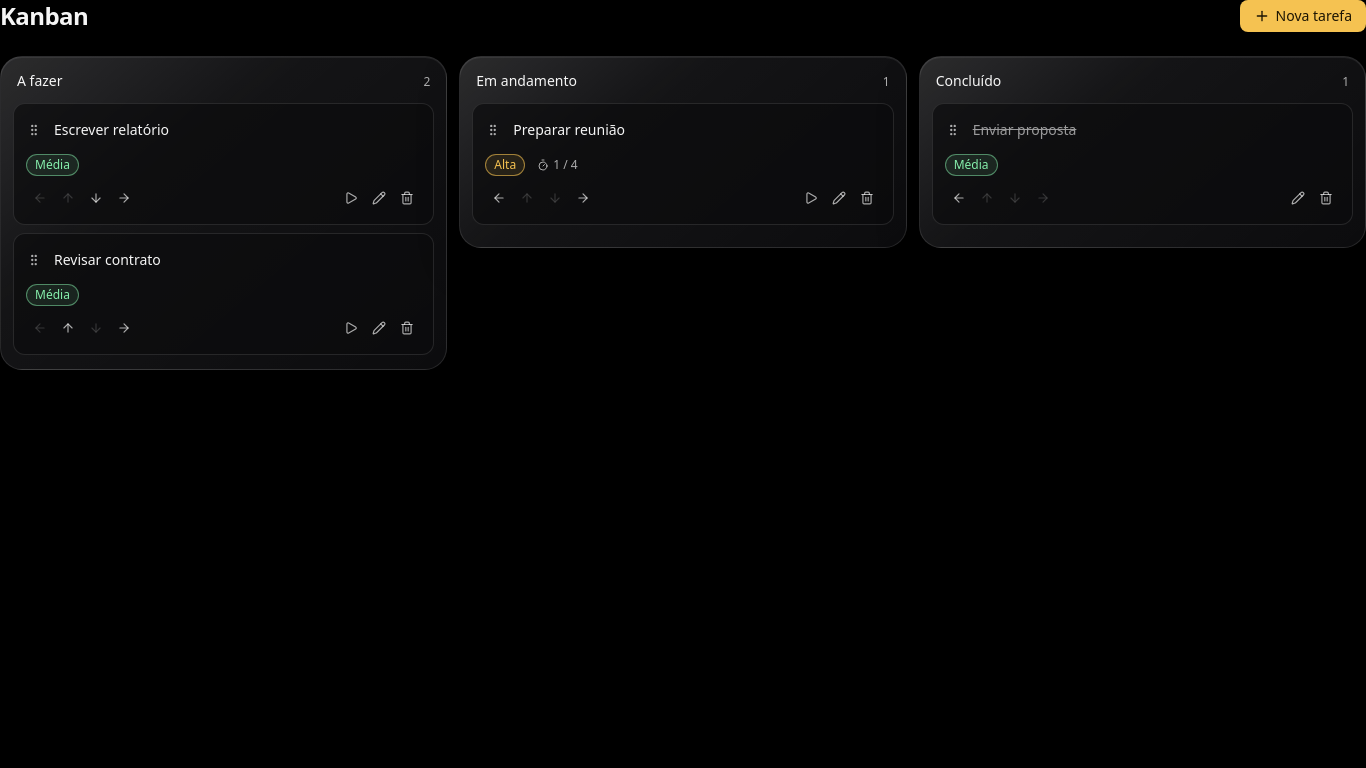
Test: KanbanPage › cria uma tarefa pelo diálogo
The width and height of the screenshot is (1366, 768).
Click the button "Nova tarefa" at (1303, 16), box left=1240, top=0, right=1365, bottom=32
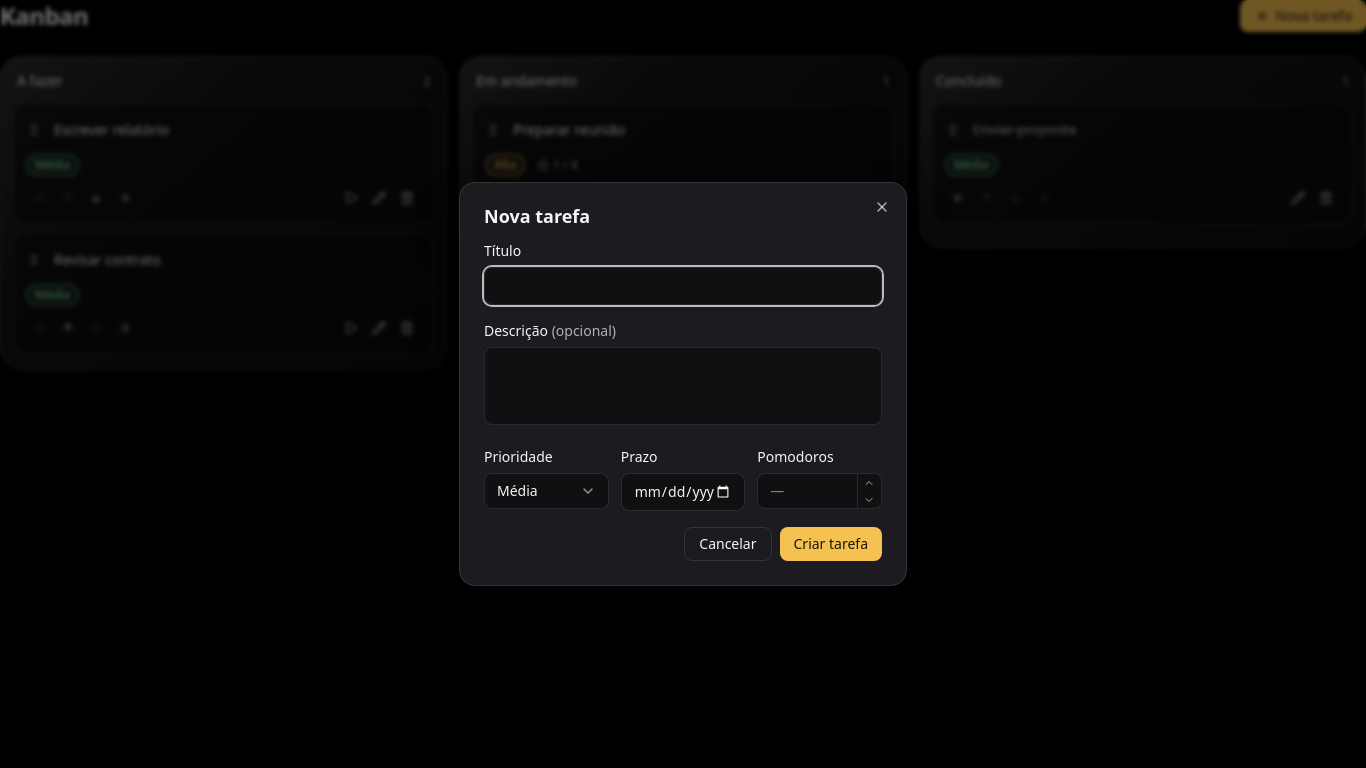
Type "  Nova  " into the field labelled "Título" at (683, 286), box left=484, top=267, right=882, bottom=305
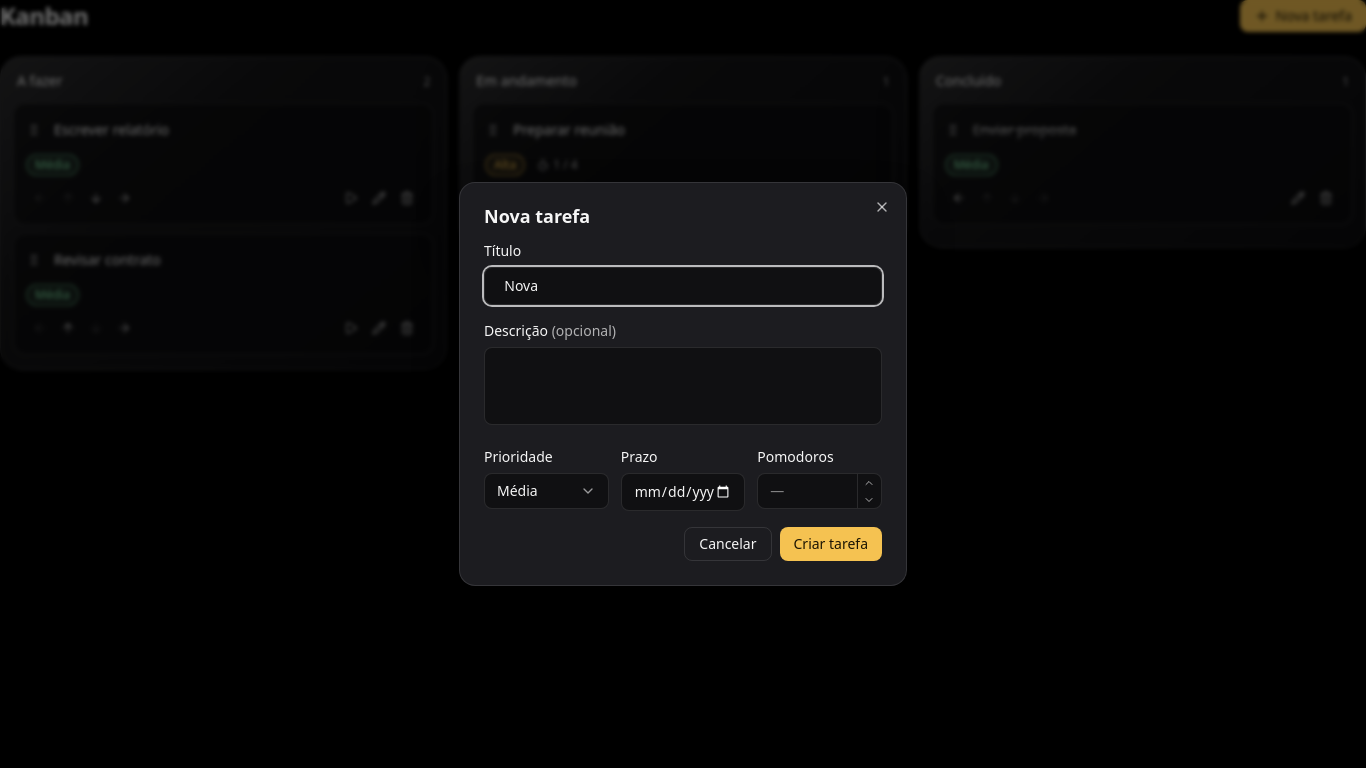
Type "Detalhes" into the text box labelled "Descrição (opcional)" at (683, 386), box left=484, top=347, right=882, bottom=425
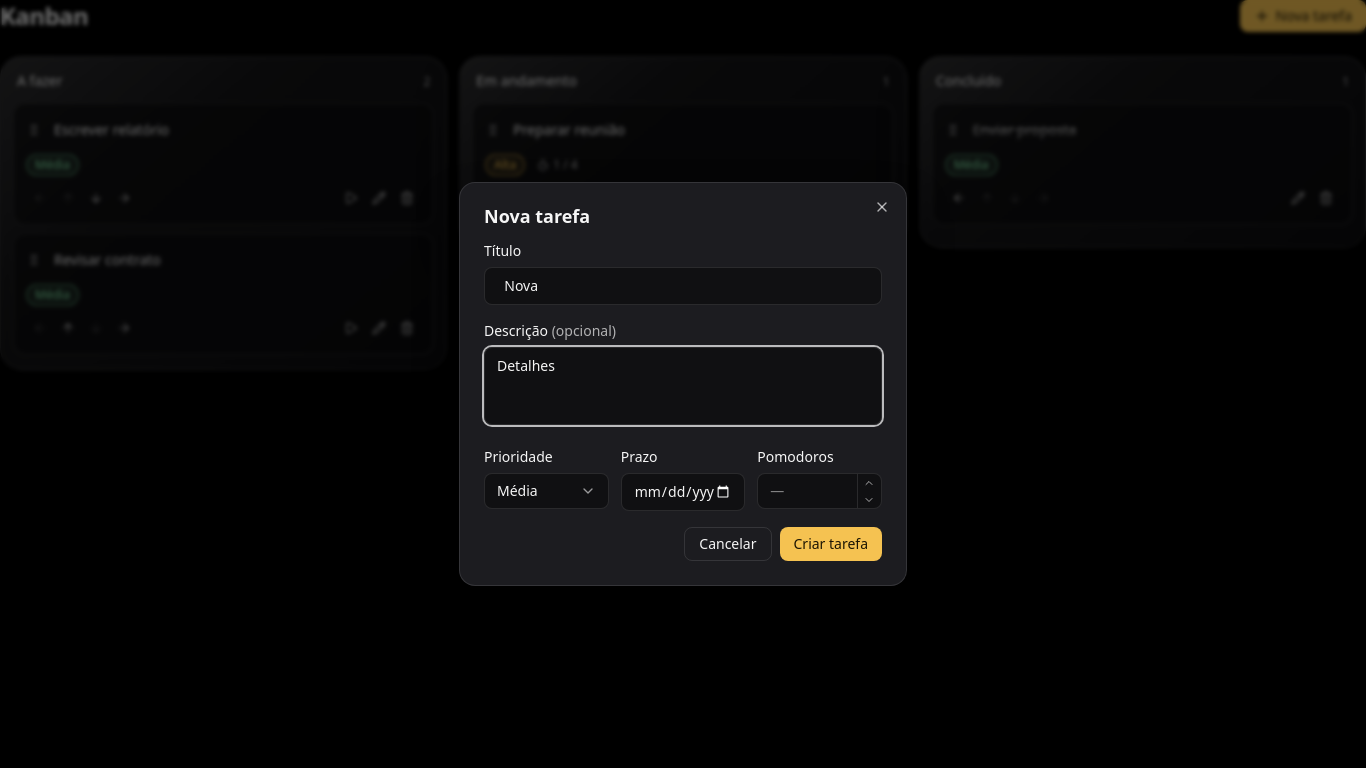
Type "3" into the number field labelled "Pomodoros" at (808, 491), box left=758, top=474, right=857, bottom=508
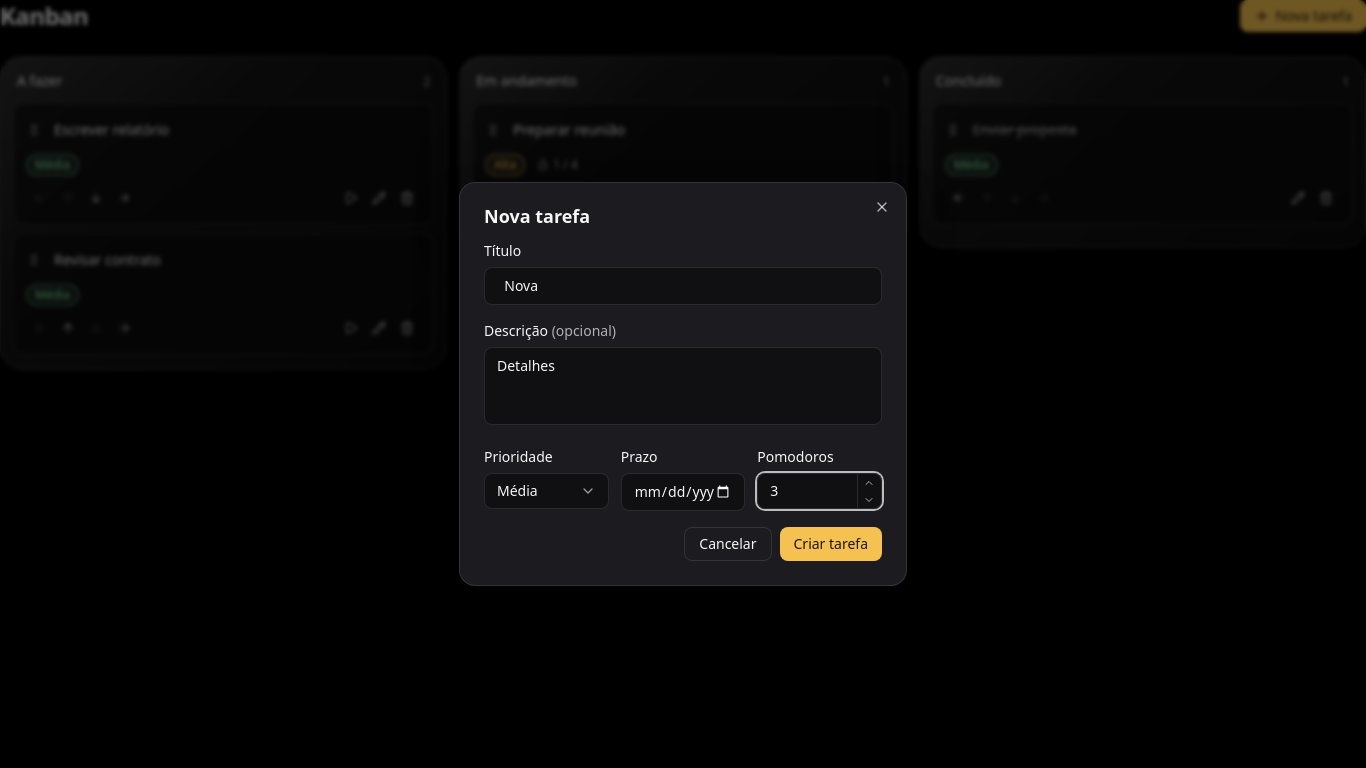
Click the button "Criar tarefa" at (831, 544), box left=780, top=527, right=882, bottom=561
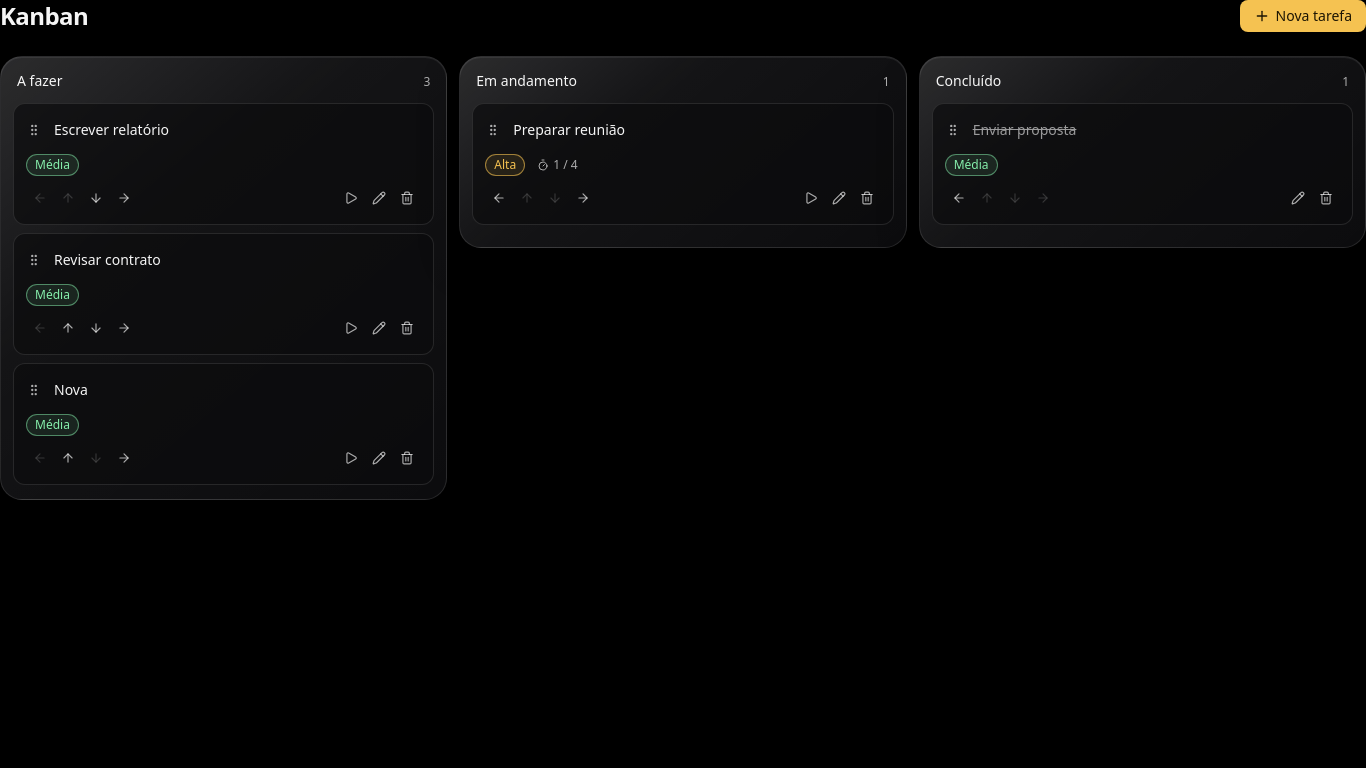
Now the dialog is gone
Now the list item "Nova" is shown, box left=13, top=363, right=434, bottom=485
